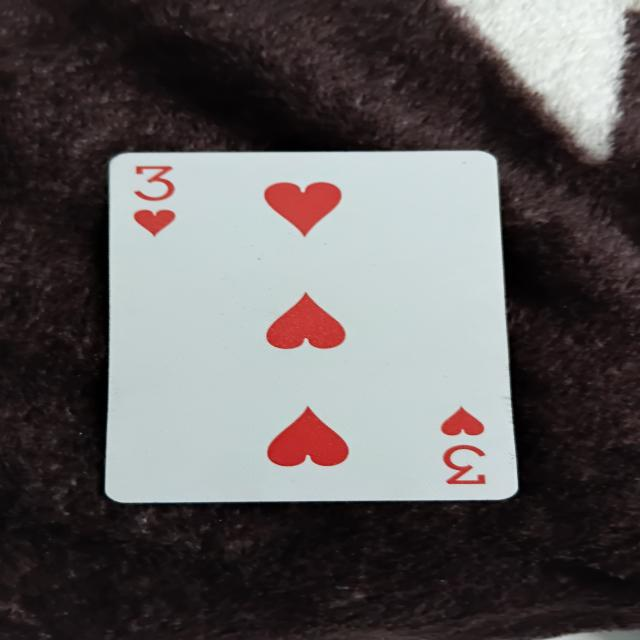3H: (106, 148, 518, 507)
